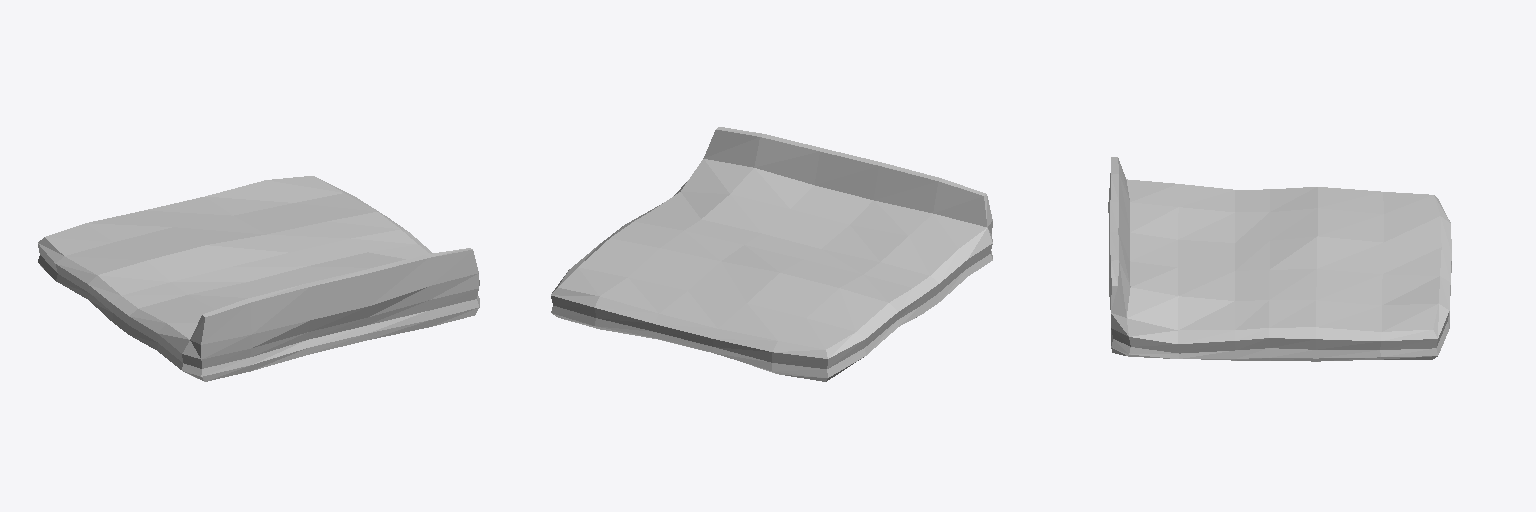
The model's file is PLATFORM1plant.OBJ.
3 renders of one model, left to right at view 1: azimuth 30°, elevation 25°; view 2: azimuth 150°, elevation 25°; view 3: azimuth 270°, elevation 25°, orthographic.
Parts seen in each view (by area): view 1: Group2; view 2: Group2; view 3: Group2.
Part boxes in pixels (left/top/right/bottom): Group2: left=38, top=176, right=479, bottom=381; Group2: left=551, top=127, right=992, bottom=381; Group2: left=1108, top=157, right=1451, bottom=361.
Bounding box in the file's own units: 4.46 × 1.1 × 4.44.